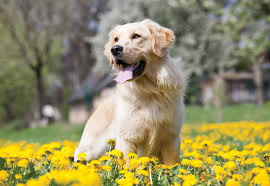Golden Retriever: (69, 16, 209, 173)
